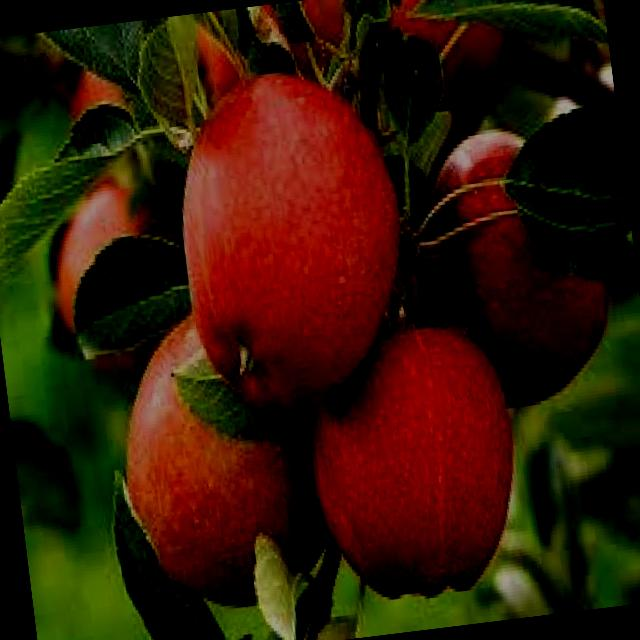Apple: (161, 56, 421, 421), (102, 298, 334, 620), (292, 312, 529, 607), (417, 115, 618, 412), (38, 168, 192, 390), (58, 15, 245, 129), (385, 0, 522, 150), (192, 18, 245, 106), (62, 61, 127, 122), (299, 0, 351, 47)
